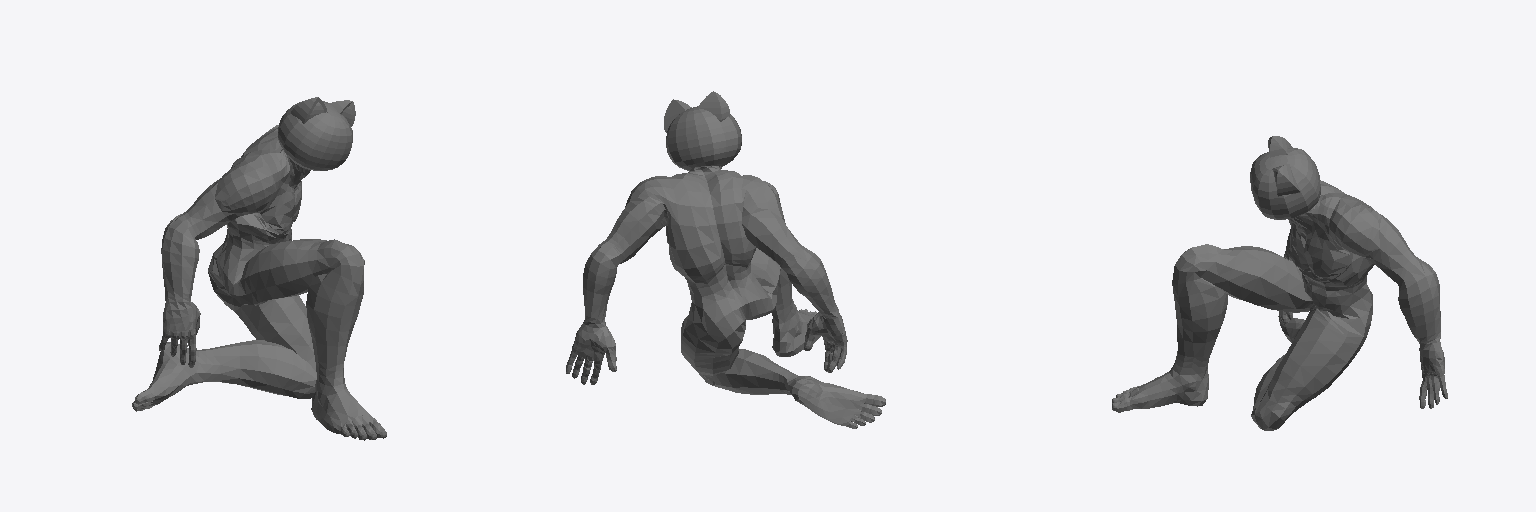
3 renders of one model, left to right at view 1: azimuth 30°, elevation 25°; view 2: azimuth 150°, elevation 25°; view 3: azimuth 270°, elevation 25°, orthographic.
Visible parts, largest first — view 1: Muscle_Body, Cat_Head, ______?001; view 2: Muscle_Body, Cat_Head; view 3: Muscle_Body, Cat_Head, ______?001.
Part boxes in pixels (x1,y1,x2,y2): Muscle_Body: (132, 125, 386, 440); Cat_Head: (278, 97, 355, 162); ______?001: (295, 117, 352, 170); Muscle_Body: (566, 166, 885, 428); Cat_Head: (664, 91, 741, 170); Muscle_Body: (1112, 180, 1447, 430); Cat_Head: (1258, 136, 1320, 219); ______?001: (1250, 155, 1275, 219).
Bounding box in the file's own units: 15.07 × 17.81 × 18.38.